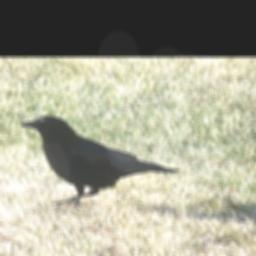Crow: (15, 112, 176, 204)
